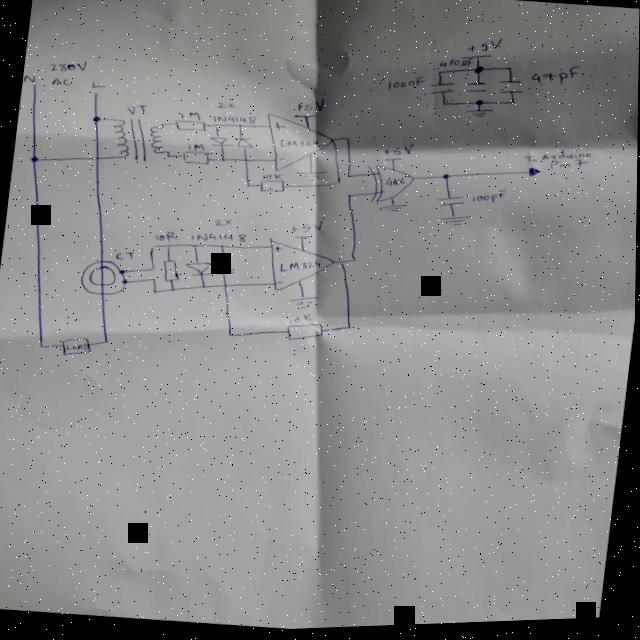capacitor: (495, 80, 525, 100), (435, 196, 467, 213), (428, 83, 456, 101), (463, 82, 489, 99)
crossover: (93, 156, 101, 162)
diode: (183, 260, 215, 280), (211, 260, 237, 279), (208, 136, 235, 150), (231, 137, 255, 152)
ground: (436, 215, 473, 233), (288, 295, 320, 315), (377, 204, 409, 218), (463, 109, 494, 123), (294, 171, 327, 183)
inductor: (78, 257, 130, 299)
junction: (472, 68, 485, 78), (29, 154, 40, 164), (474, 102, 487, 110), (92, 115, 103, 124), (434, 73, 445, 80), (508, 102, 517, 110), (335, 179, 344, 187), (441, 176, 451, 183), (101, 338, 111, 345), (241, 158, 251, 165), (38, 343, 47, 350), (169, 287, 178, 294), (505, 69, 514, 76), (350, 258, 359, 265), (149, 245, 158, 252), (221, 284, 230, 291), (219, 157, 227, 164), (345, 194, 353, 201), (346, 326, 354, 333), (244, 184, 252, 191), (345, 175, 353, 182), (150, 266, 158, 273), (118, 269, 126, 276), (121, 280, 129, 286), (201, 285, 208, 291), (440, 104, 447, 110), (211, 124, 219, 129), (192, 244, 200, 249), (153, 289, 159, 295), (165, 153, 171, 159), (167, 244, 173, 250), (227, 333, 234, 338), (152, 278, 158, 283), (345, 138, 351, 143), (236, 125, 242, 130), (340, 262, 346, 267), (159, 122, 164, 127), (218, 245, 224, 249)
resistor: (285, 321, 325, 346), (60, 334, 94, 358), (179, 150, 213, 168), (173, 119, 208, 135), (160, 260, 182, 284), (258, 179, 287, 196)
source: (459, 55, 492, 66), (292, 113, 318, 123), (384, 159, 407, 166), (295, 236, 311, 242)
terminal: (526, 170, 543, 183), (30, 81, 40, 87), (89, 91, 100, 96)
text: (523, 148, 593, 174), (529, 65, 582, 93), (190, 229, 249, 249), (277, 257, 324, 279), (382, 74, 426, 97), (544, 159, 593, 178), (47, 57, 90, 78), (470, 189, 507, 210), (466, 38, 503, 59), (211, 112, 257, 128), (380, 142, 415, 163), (435, 57, 477, 74), (279, 137, 321, 153), (289, 219, 324, 238), (296, 97, 326, 117), (288, 313, 317, 329), (154, 230, 180, 244), (65, 340, 91, 354), (177, 110, 202, 124), (125, 103, 148, 118), (49, 76, 75, 89), (383, 178, 408, 191), (114, 250, 136, 263), (260, 172, 283, 184), (185, 142, 208, 153), (213, 218, 234, 230), (216, 102, 237, 112), (89, 79, 108, 90), (23, 73, 38, 84), (271, 123, 286, 134), (273, 246, 284, 256), (275, 158, 287, 165), (276, 281, 285, 288)
transformer: (109, 115, 166, 166)
